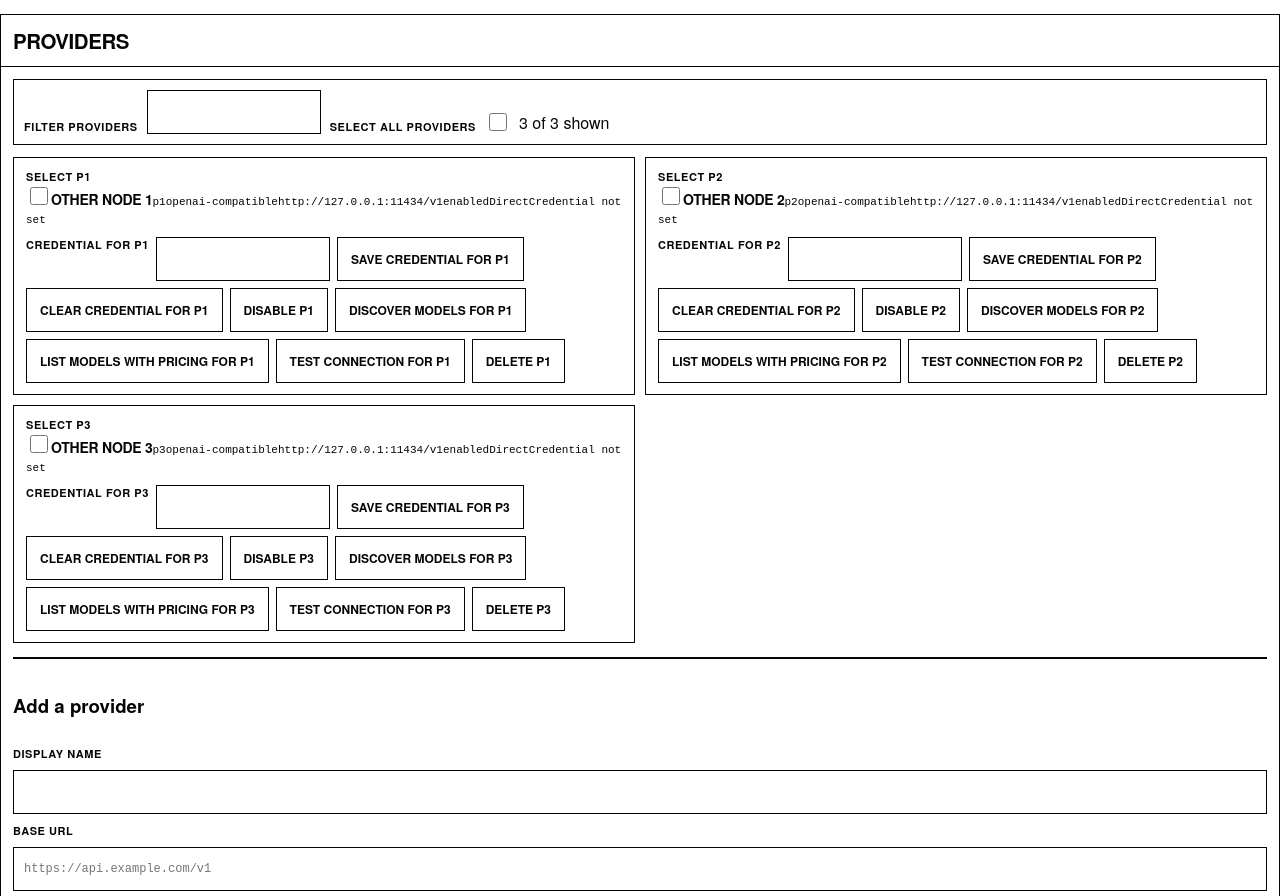
Test: bulk provider proxy assignment › refuses to assign with no proxy chosen
Expected: the text "Other node 1" is shown, [51,189,152,209]
What coordinates should you click on to do the following:
click the checkbox with test id "provider-select-all"
I would click on:
 (498, 122)
Its box is [489,113,507,131].
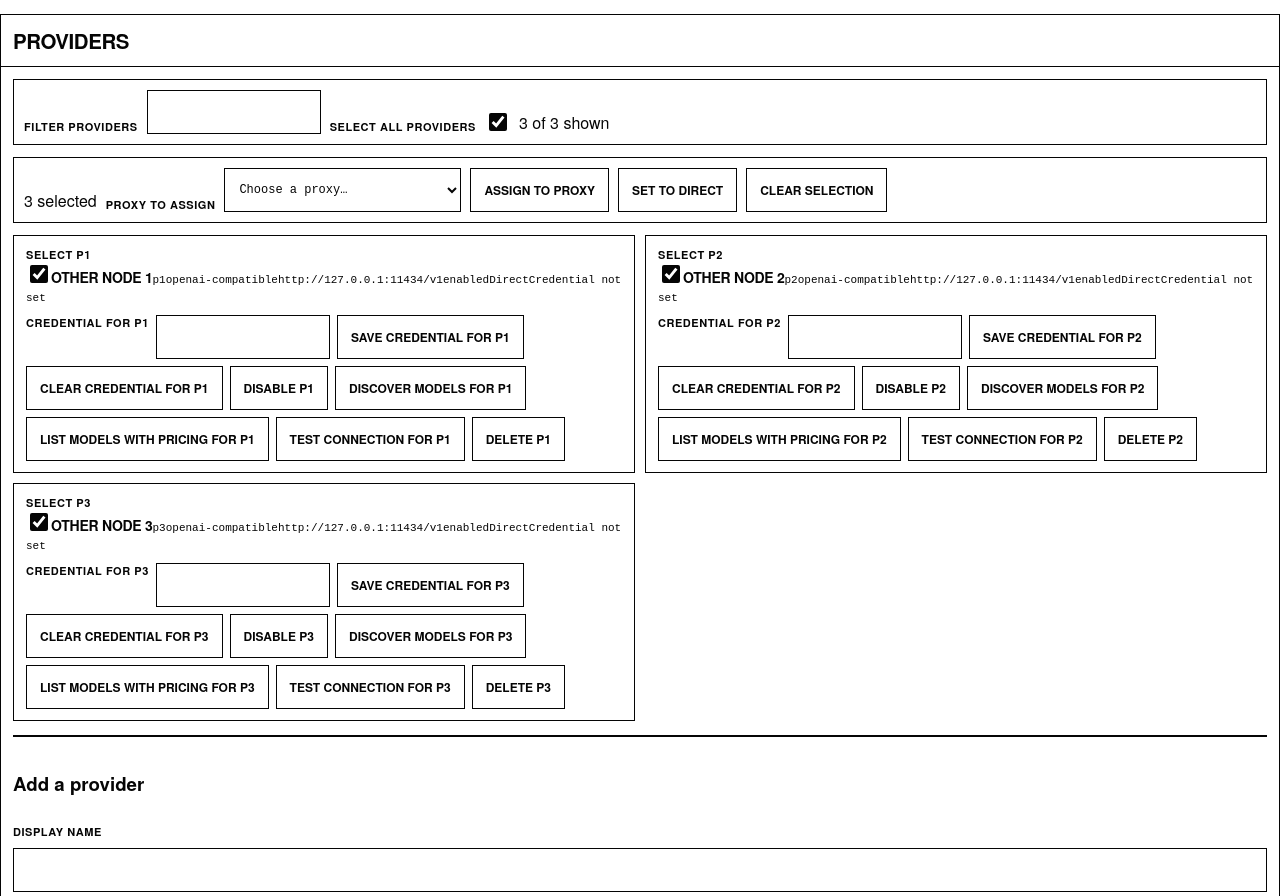
What coordinates should you click on to do the following:
click the button with test id "assign-to-proxy"
I would click on:
 (540, 190)
Its box is [470,168,609,212].
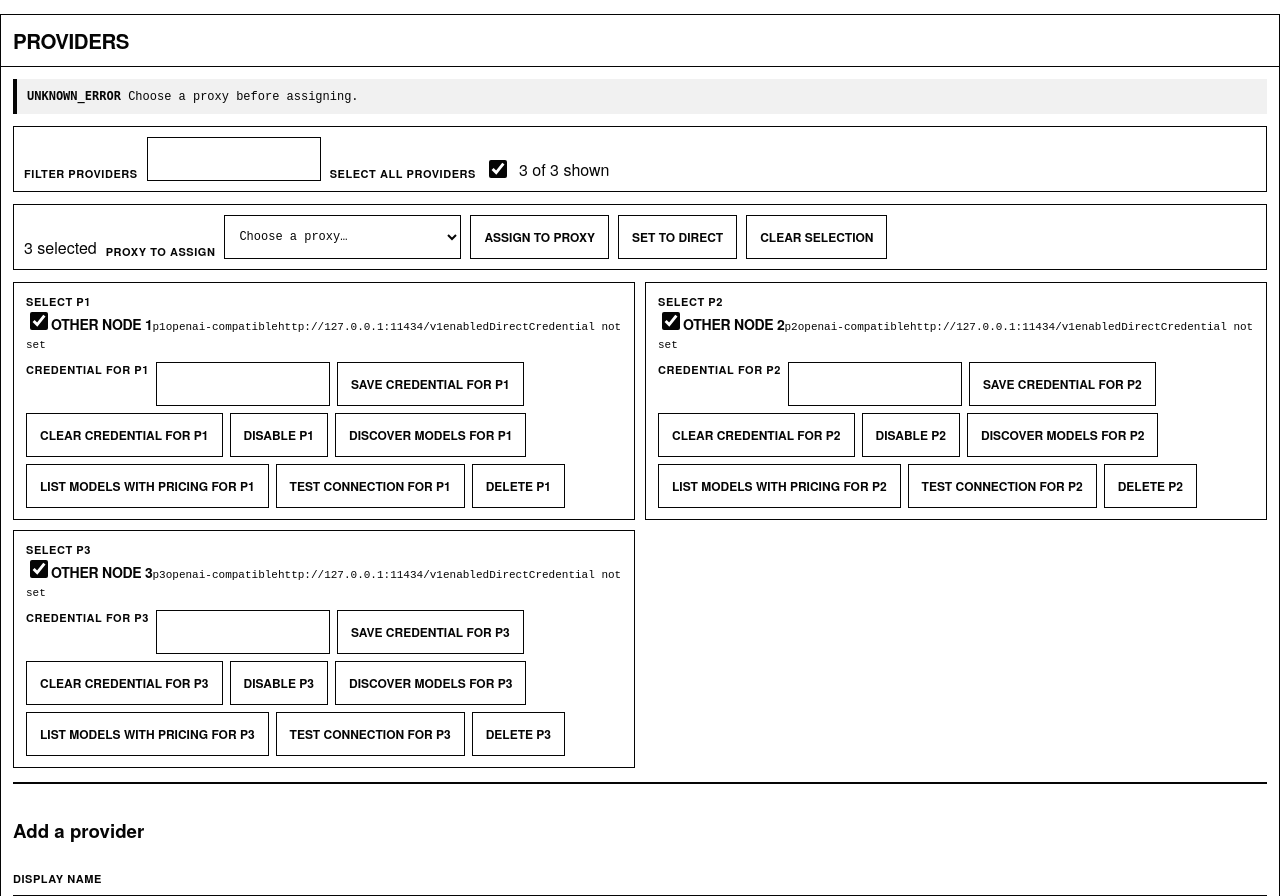
Expected: the message "unknown_error Choose a proxy before assigning." is shown, [13,79,1267,114]
